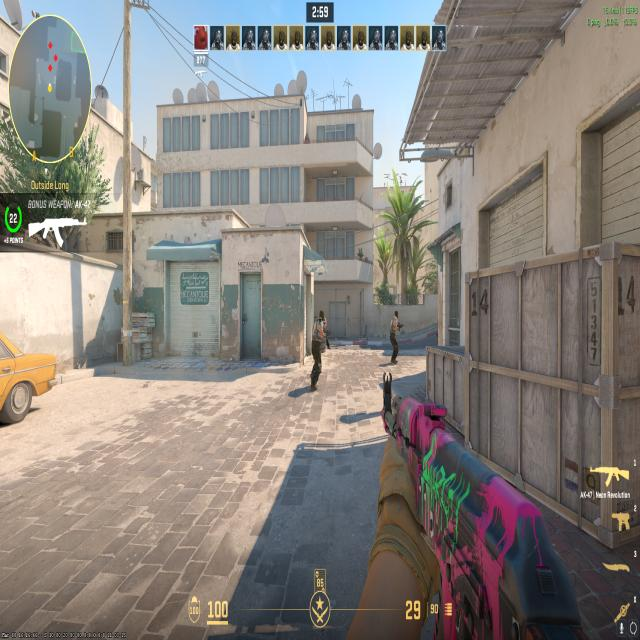t: (304, 303, 330, 396), (381, 302, 405, 371)
